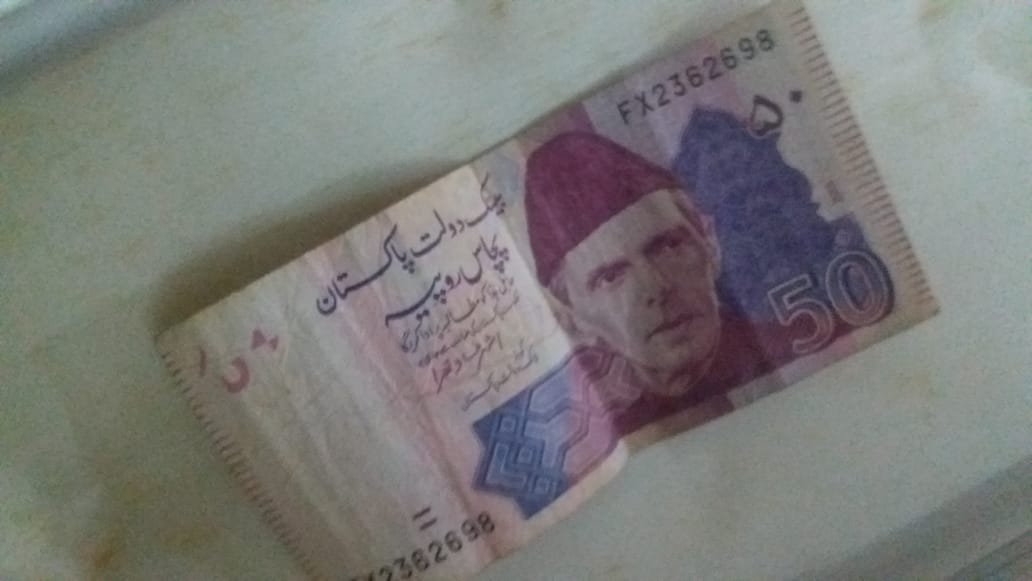50 rupee: (151, 0, 933, 578)
